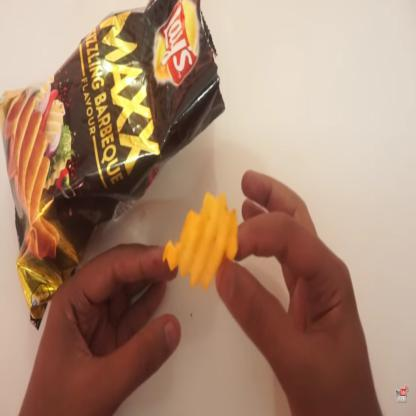maxx_sizzling_barbeque: (0, 5, 223, 197)
